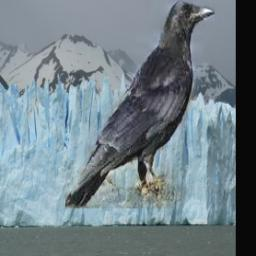Crow: (65, 0, 215, 208)
